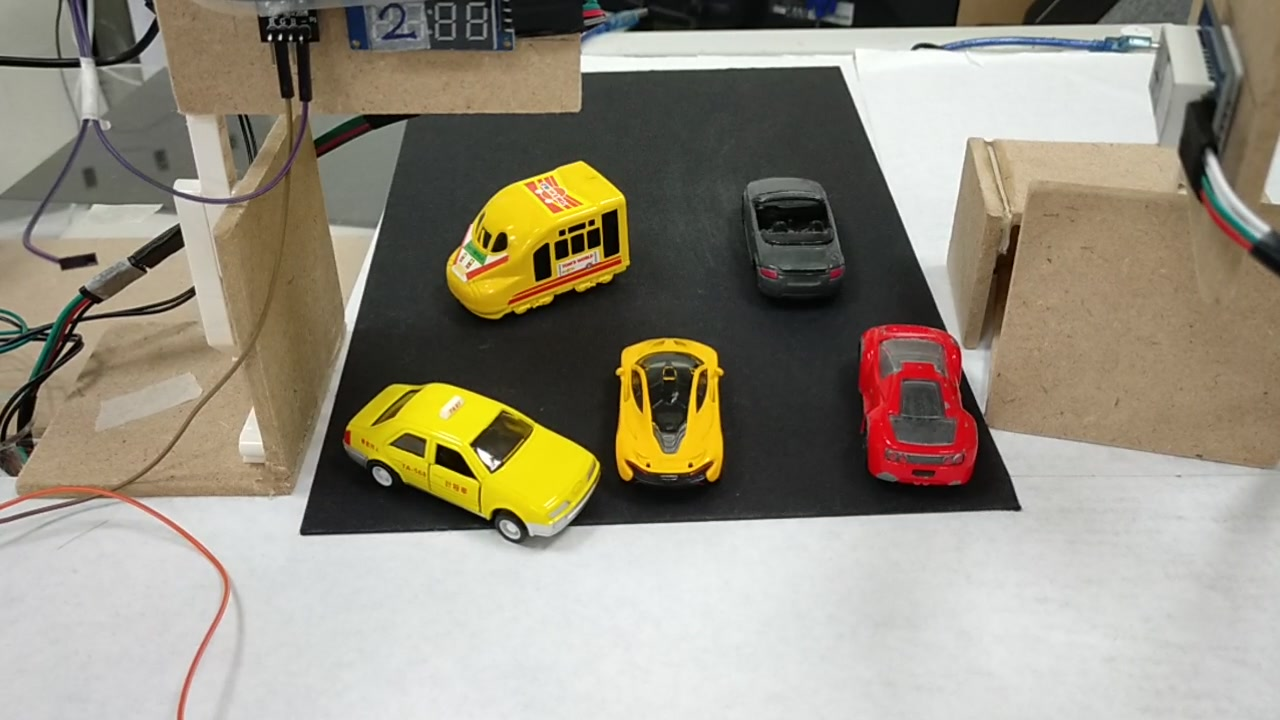car: (339, 383, 591, 541), (859, 328, 978, 489), (612, 335, 726, 489), (739, 170, 847, 293)
